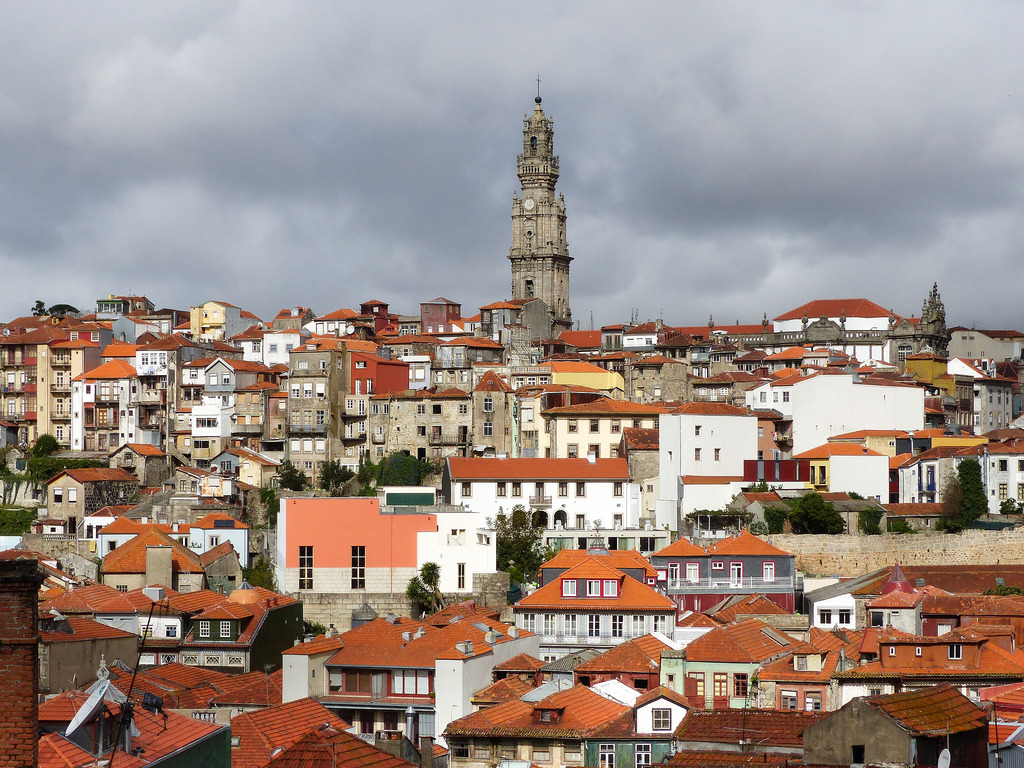clerigos: (508, 72, 573, 319)
